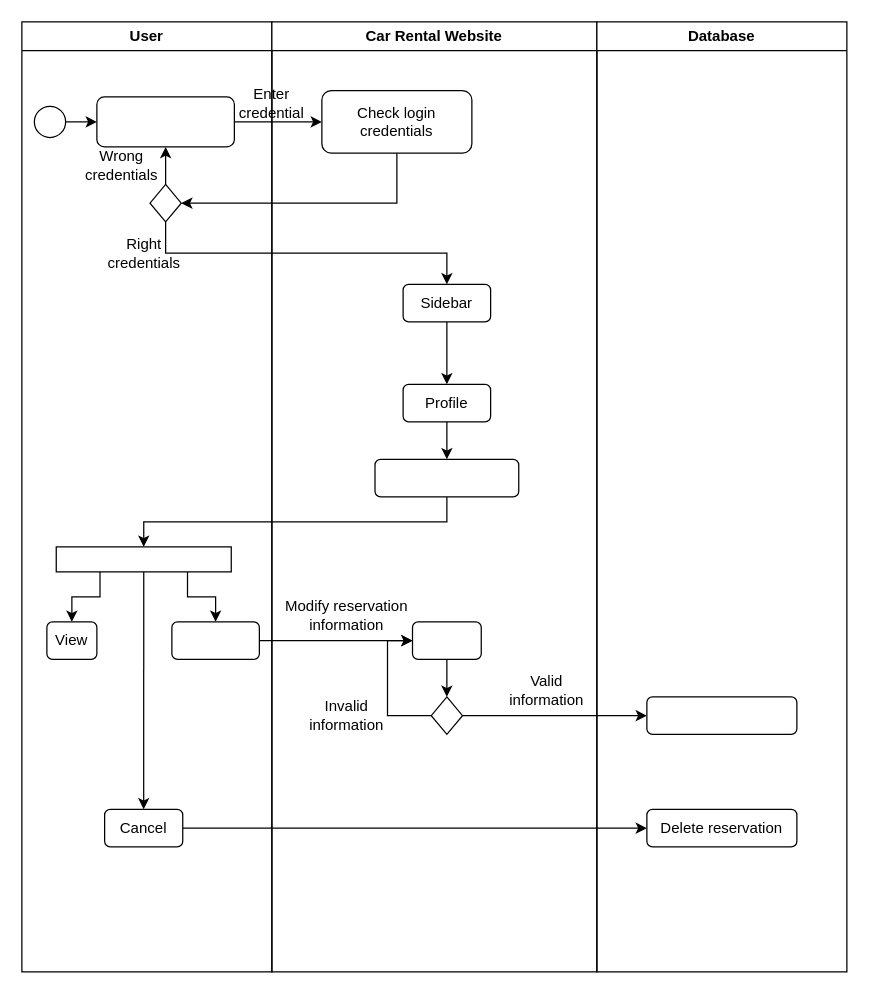
This 869x994 diagram has some shape labels left out. Each missing label, with the box of its shape:
Form: (411, 621, 481, 659)
Login: (96, 96, 234, 147)
Modify: (171, 621, 259, 659)
My reservations: (374, 458, 519, 497)
Update reservation: (646, 696, 797, 734)
